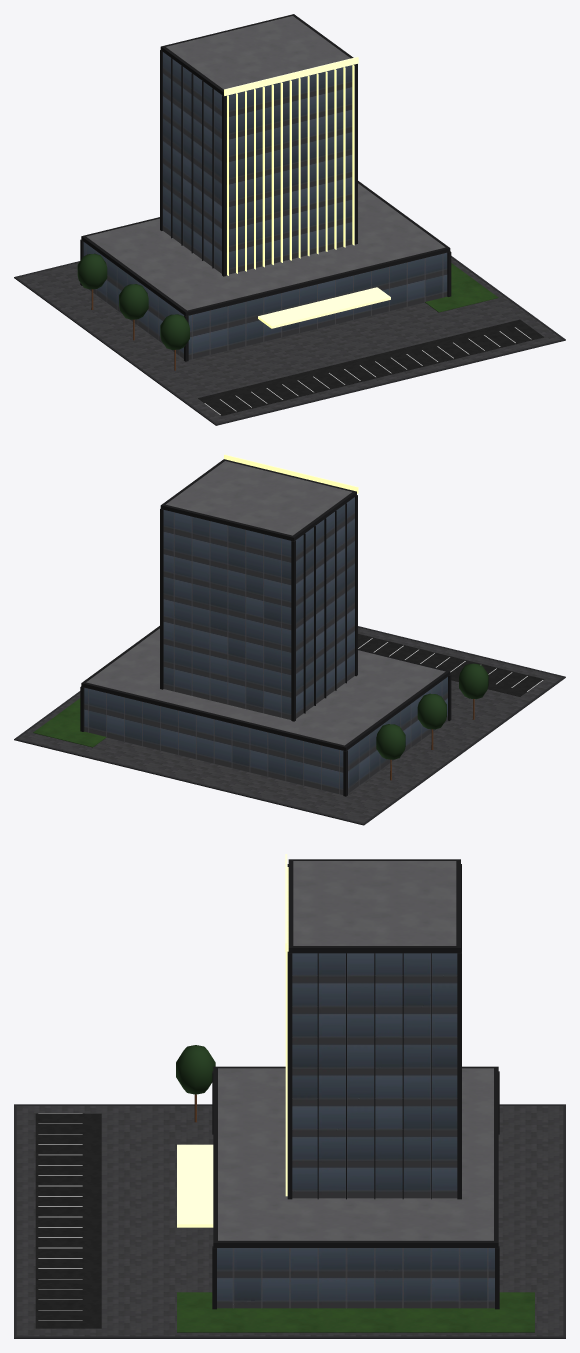
File: sponsor_L3.glb
3 renders of one model, top to bottom at view 1: azimuth 30°, elevation 25°; view 2: azimuth 150°, elevation 25°; view 3: azimuth 270°, elevation 25°, orthographic. The views are drawn at different scales.
Visible parts, largest first — view 1: emissive_curtain_sponsor_L3, paving_sponsor_L3, roofing_sponsor_L3, emissive_led_sponsor_L3, black_metal_sponsor_L3, asphalt_sponsor_L3, foliage_sponsor_L3, concrete_dark_sponsor_L3, lawn_sponsor_L3; view 2: emissive_curtain_sponsor_L3, roofing_sponsor_L3, paving_sponsor_L3, black_metal_sponsor_L3, asphalt_sponsor_L3, foliage_sponsor_L3, concrete_dark_sponsor_L3, lawn_sponsor_L3, emissive_led_sponsor_L3; view 3: emissive_curtain_sponsor_L3, paving_sponsor_L3, roofing_sponsor_L3, asphalt_sponsor_L3, black_metal_sponsor_L3, lawn_sponsor_L3, emissive_led_sponsor_L3, concrete_dark_sponsor_L3, foliage_sponsor_L3, white_sponsor_L3.
Boxes of the visible parts, x1,y1,x2,y2 form: emissive_curtain_sponsor_L3: (83, 52, 447, 359); paving_sponsor_L3: (17, 258, 562, 423); roofing_sponsor_L3: (86, 16, 445, 310); emissive_led_sponsor_L3: (224, 57, 390, 328); black_metal_sponsor_L3: (80, 14, 451, 361); asphalt_sponsor_L3: (198, 319, 543, 415); foliage_sponsor_L3: (77, 253, 189, 349); concrete_dark_sponsor_L3: (14, 256, 565, 425); lawn_sponsor_L3: (425, 263, 498, 312); emissive_curtain_sponsor_L3: (84, 497, 447, 794); roofing_sponsor_L3: (86, 461, 445, 745); paving_sponsor_L3: (17, 627, 562, 823); black_metal_sponsor_L3: (80, 459, 451, 796); asphalt_sponsor_L3: (358, 634, 543, 696); foliage_sponsor_L3: (376, 663, 488, 759); concrete_dark_sponsor_L3: (14, 626, 565, 825); lawn_sponsor_L3: (33, 698, 106, 747); emissive_led_sponsor_L3: (224, 454, 358, 493); emissive_curtain_sponsor_L3: (217, 953, 494, 1308); paving_sponsor_L3: (16, 1106, 563, 1336); roofing_sponsor_L3: (218, 861, 493, 1240); asphalt_sponsor_L3: (35, 1113, 101, 1328); black_metal_sponsor_L3: (212, 859, 499, 1309); lawn_sponsor_L3: (177, 1292, 534, 1332); emissive_led_sponsor_L3: (177, 854, 288, 1227); concrete_dark_sponsor_L3: (14, 1104, 565, 1338); foliage_sponsor_L3: (176, 1045, 215, 1094); white_sponsor_L3: (38, 1113, 82, 1320).
Bounding box in the file's own units: 58.6 × 37.92 × 58.6.
Materials: 11 (6 with a texture image).
